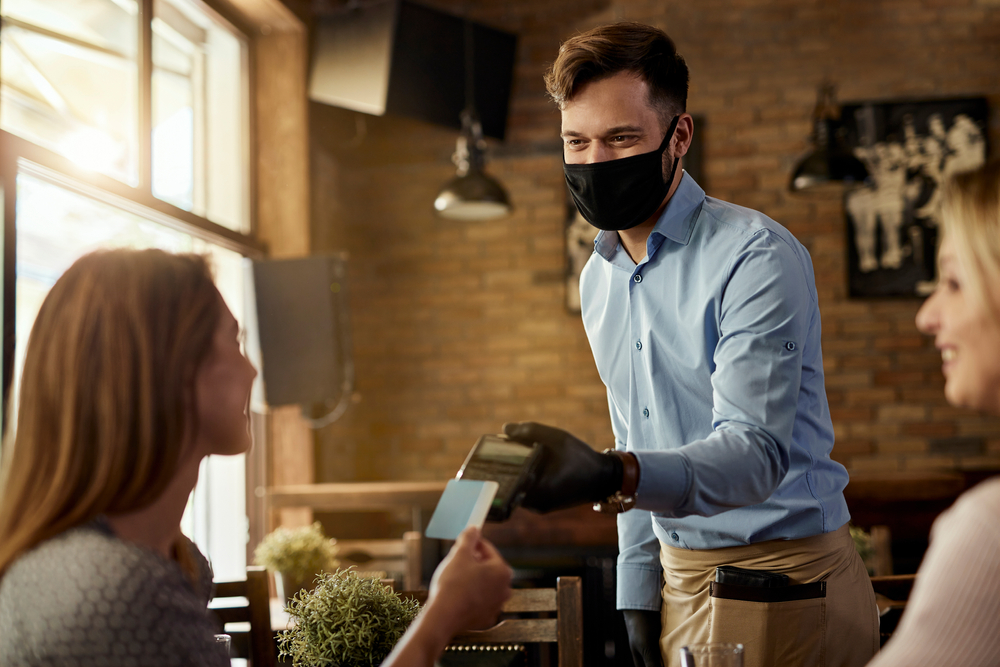with_mask: (562, 109, 679, 224)
without_mask: (910, 214, 1000, 412), (181, 289, 270, 458)
